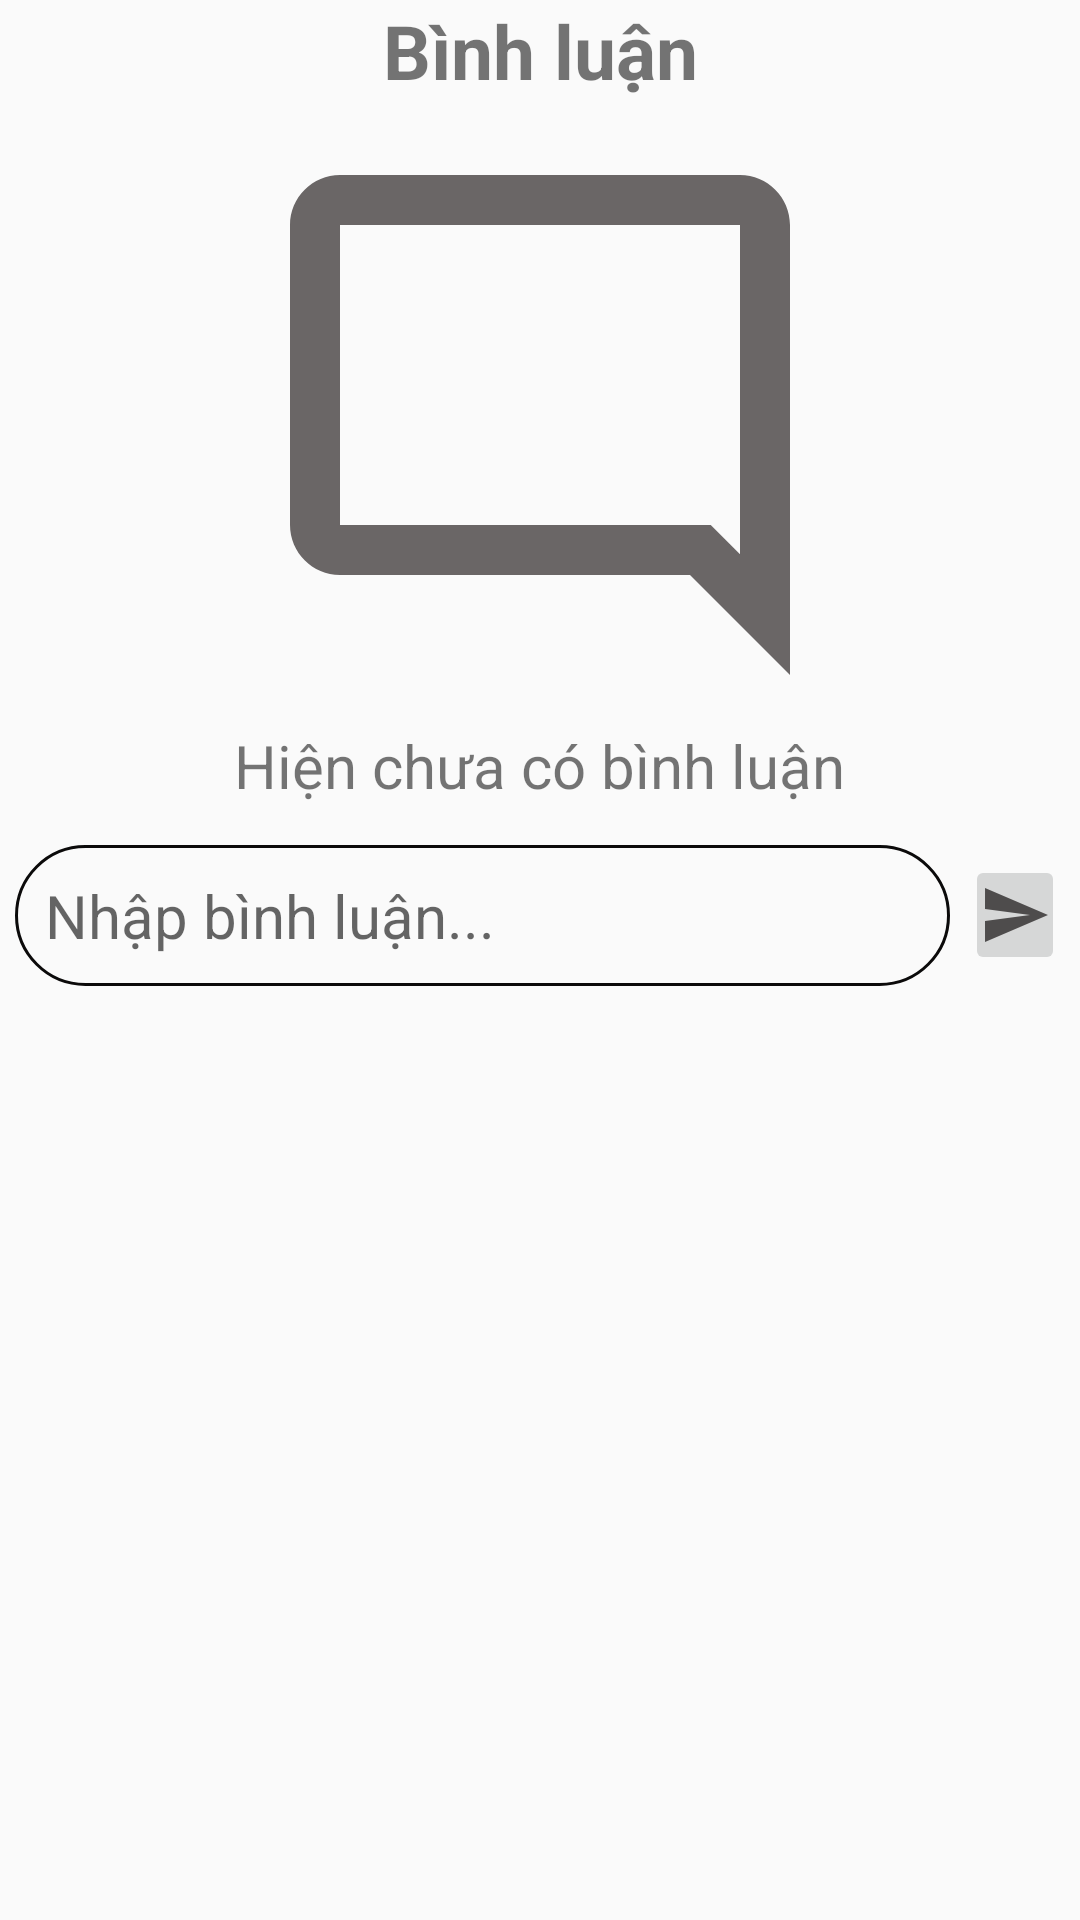

Icons on this 1080×1920 Android screen, each with its box as bbox(x1, y1, x2, y2):
send: bbox(977, 873, 1053, 957)
